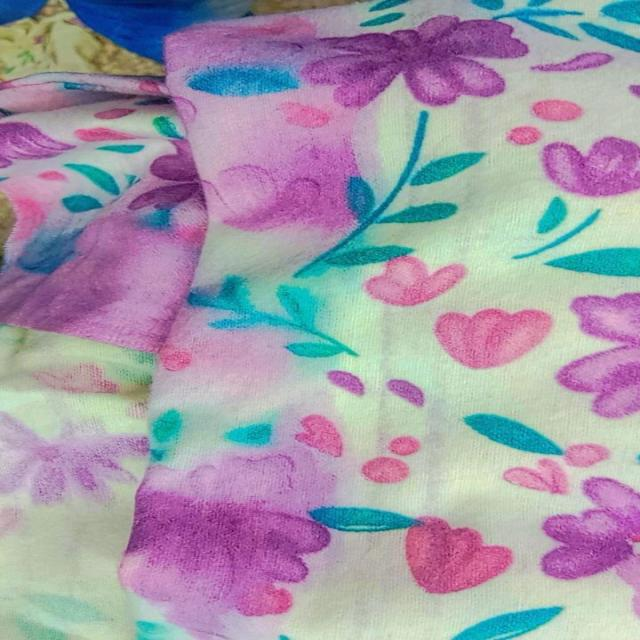baekra: (9, 278, 345, 630), (70, 14, 348, 257)
